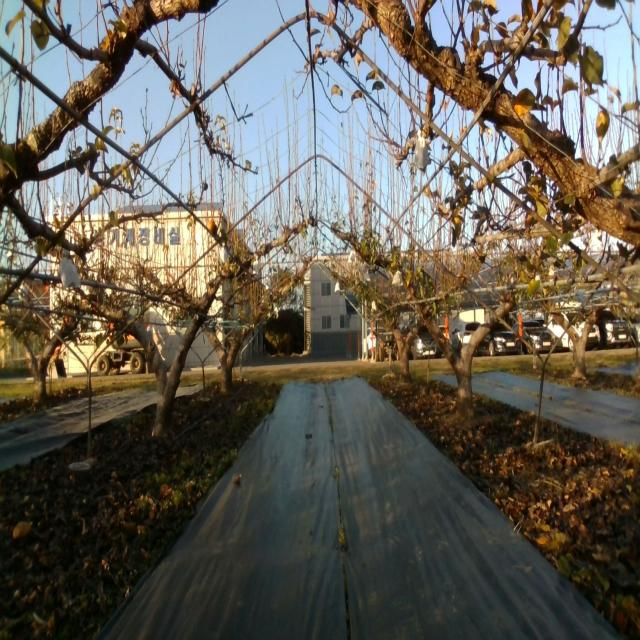pearbags: (59, 249, 81, 289), (415, 129, 428, 178)
